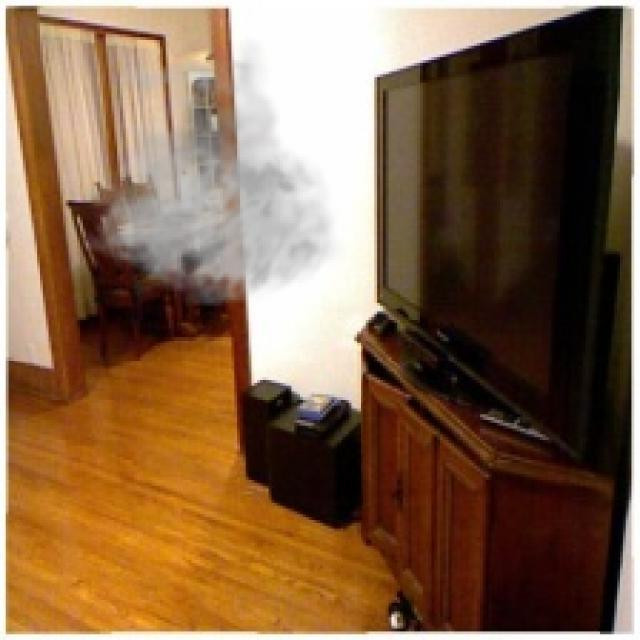smoke: (74, 37, 346, 309)
